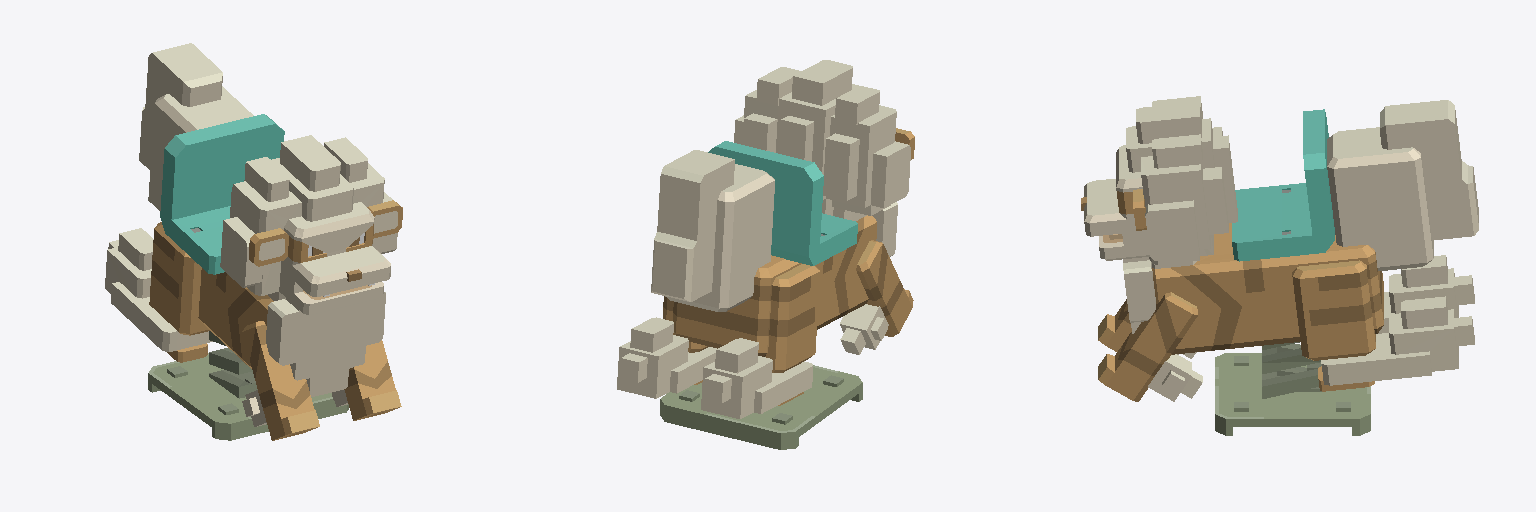
3 renders of one model, left to right at view 1: azimuth 30°, elevation 25°; view 2: azimuth 150°, elevation 25°; view 3: azimuth 270°, elevation 25°, orthographic.
Parts seen in each view (by area): view 1: bdArcanineRockingChair; view 2: bdArcanineRockingChair; view 3: bdArcanineRockingChair.
Part boxes in pixels (x1,y1,x2,y2): bdArcanineRockingChair: (105,43,402,440); bdArcanineRockingChair: (617,60,914,449); bdArcanineRockingChair: (1081,96,1478,435).
Size of the model in its own units: 3.14 by 5.81 by 7.15.
1 materials, 1 textured.